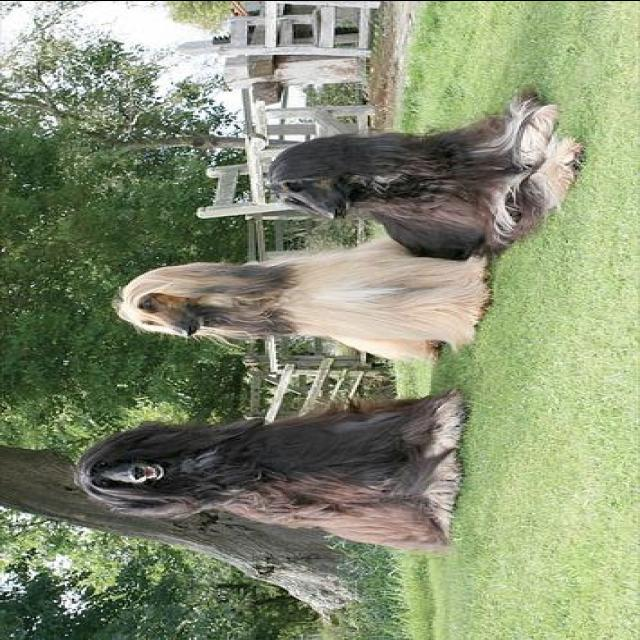afghan_hound: (78, 388, 468, 550), (268, 85, 580, 268), (114, 232, 486, 362)
